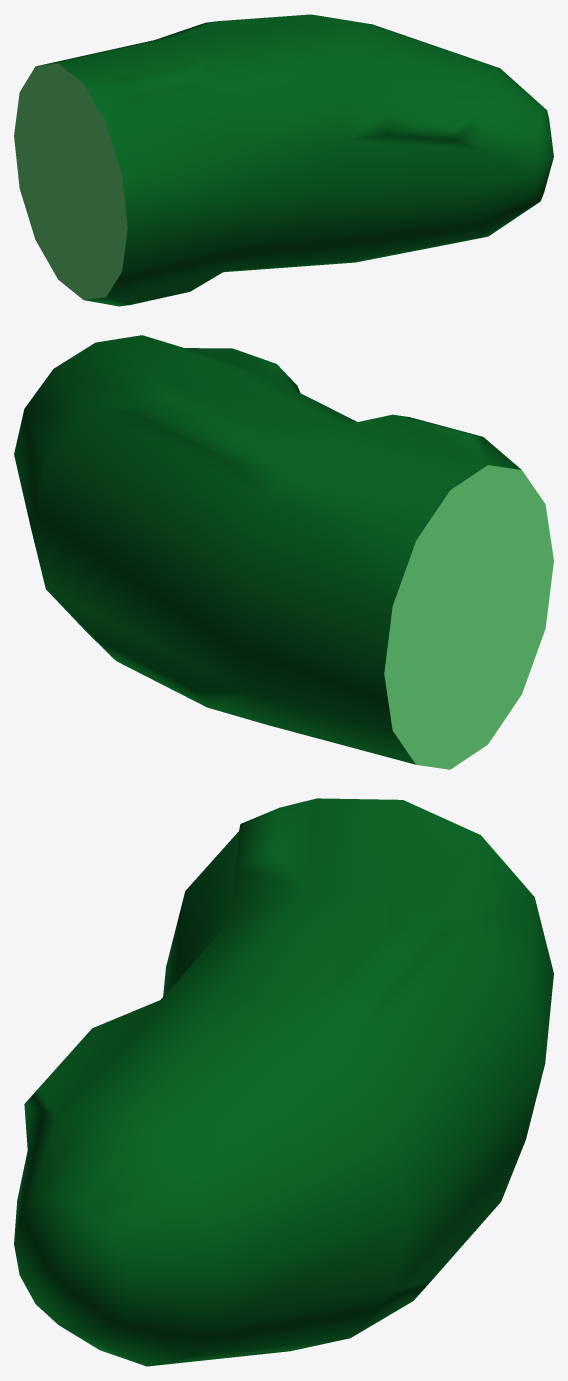
File: mesh_Pickle_Stage08.fbx
The picture shows the model from 3 angles, top to bottom: view 1: azimuth 30°, elevation 25°; view 2: azimuth 150°, elevation 25°; view 3: azimuth 270°, elevation 25°; orthographic projection. The views are drawn at different scales.
Visible parts, largest first — view 1: mesh_Pickle_Stage08; view 2: mesh_Pickle_Stage08; view 3: mesh_Pickle_Stage08.
Boxes of the visible parts, left/top/right/bottom form: mesh_Pickle_Stage08: left=14, top=14, right=553, bottom=306; mesh_Pickle_Stage08: left=14, top=335, right=553, bottom=769; mesh_Pickle_Stage08: left=14, top=798, right=553, bottom=1366.
Bounding box in the file's own units: 0.0645 × 0.0349 × 0.0464.
